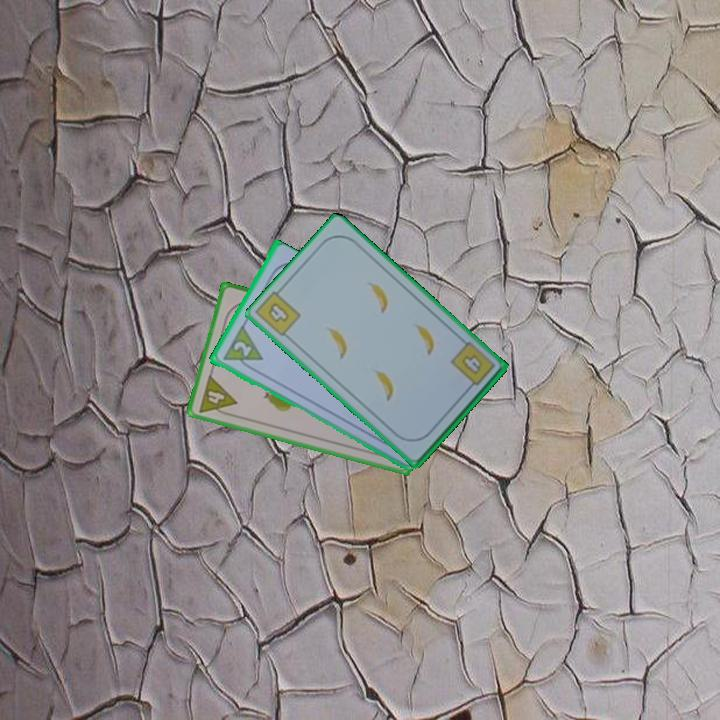2p: (229, 338, 254, 360)
4b: (447, 340, 498, 394), (264, 299, 292, 326)
4p: (195, 371, 239, 420)
